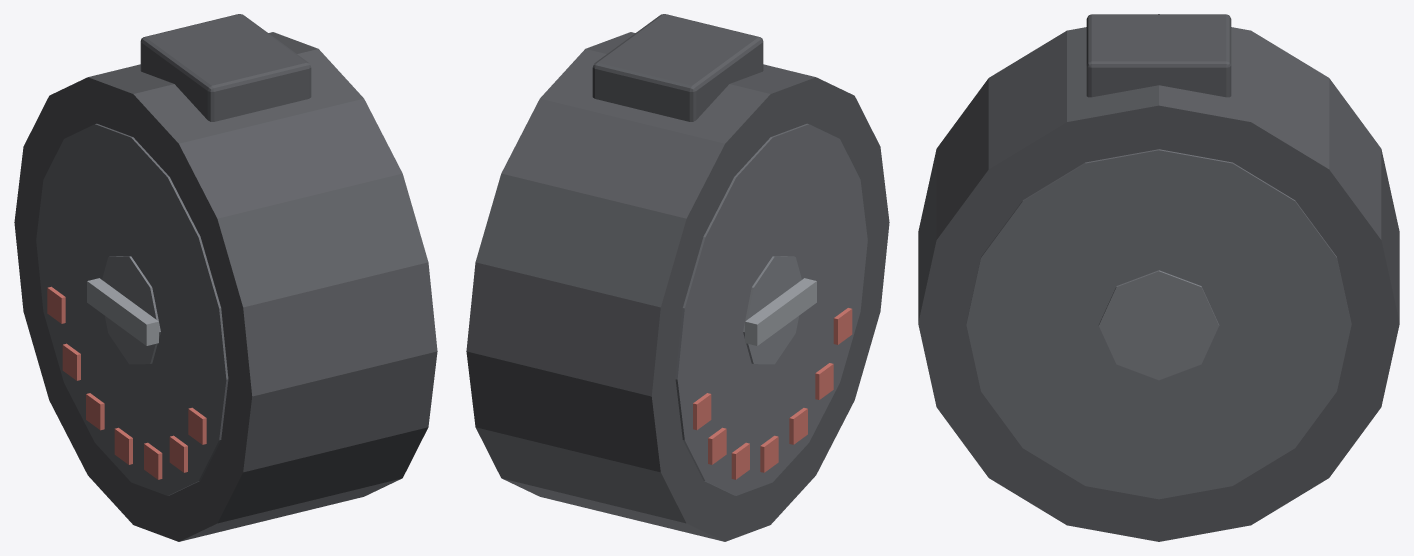
File: att_ext_drum.fbx
3 renders of one model, left to right at view 1: azimuth 30°, elevation 25°; view 2: azimuth 150°, elevation 25°; view 3: azimuth 270°, elevation 25°, orthographic.
Visible parts, largest first — view 1: att_ext_drum; view 2: att_ext_drum; view 3: att_ext_drum.
Part boxes in pixels (bbox=[...]): att_ext_drum: bbox=[14, 14, 437, 541]; att_ext_drum: bbox=[466, 14, 889, 541]; att_ext_drum: bbox=[918, 14, 1399, 541].
Bounding box in the file's own units: 0.1 × 0.21 × 0.2.
